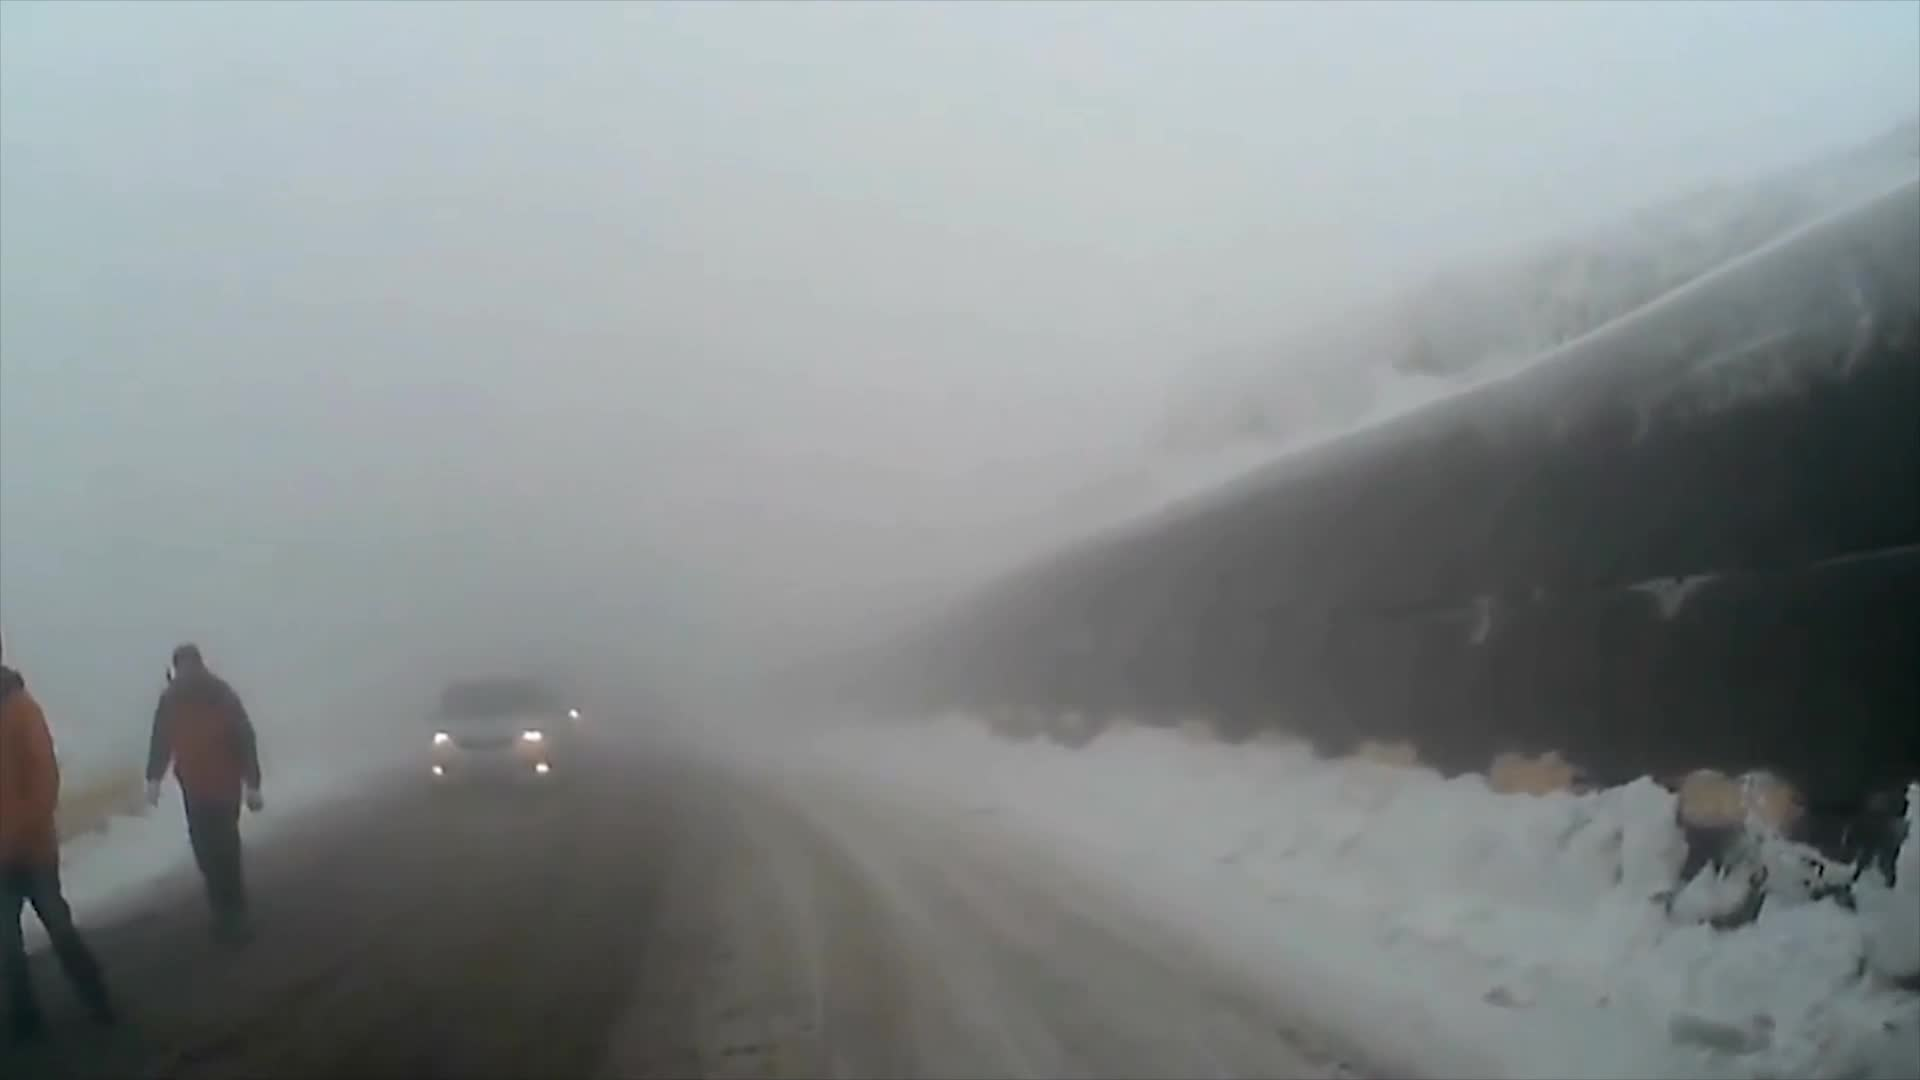pedestrian: (1, 623, 120, 1026), (144, 637, 264, 922)
vehicle: (413, 669, 567, 797)
